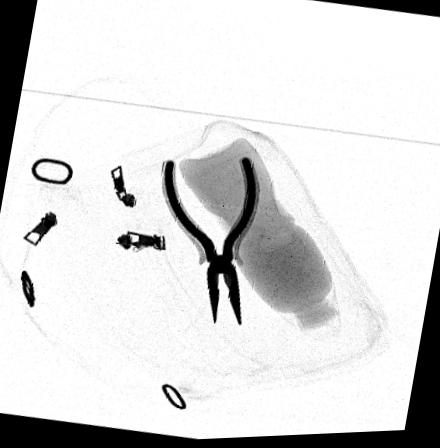Pliers: (162, 157, 257, 327)
